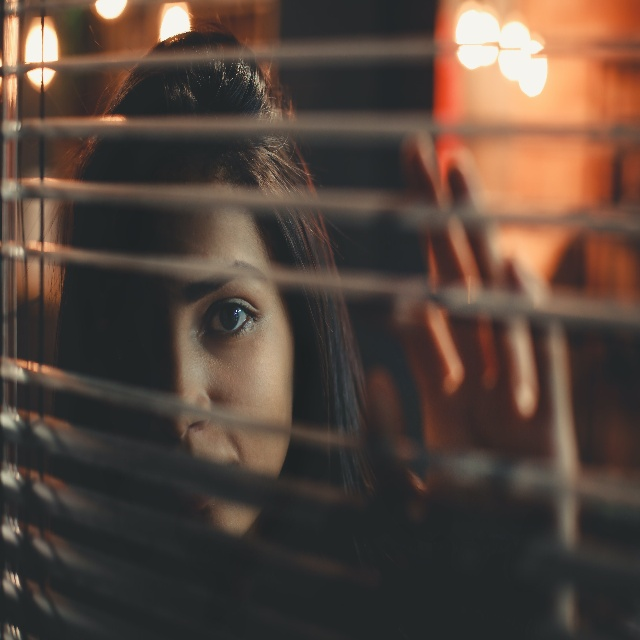Sin_guantes: (367, 134, 577, 561)
